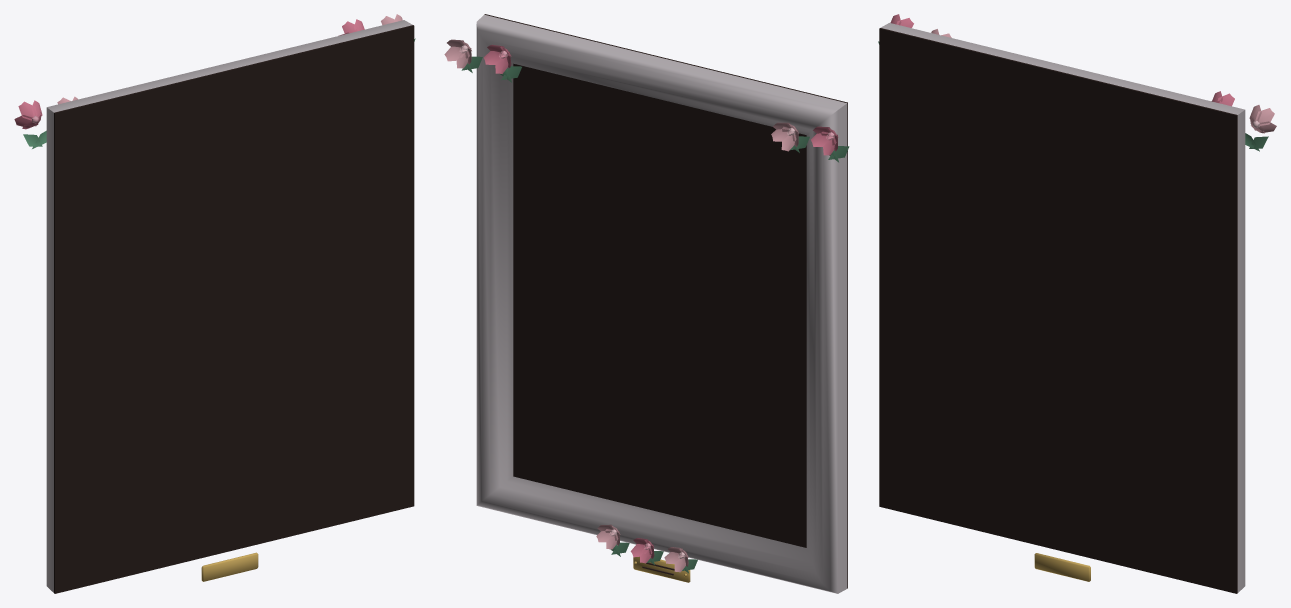
Rendered from pearl_roses_port.glb.
3 views of the same model, side by side, from view 1: azimuth 30°, elevation 25°; view 2: azimuth 150°, elevation 25°; view 3: azimuth 330°, elevation 25° (orthographic).
Parts seen in each view (by area): view 1: pearl_roses_port; view 2: pearl_roses_port; view 3: pearl_roses_port.
Part boxes in pixels (<box>): pearl_roses_port: <box>14,14,415,593</box>; pearl_roses_port: <box>444,14,849,593</box>; pearl_roses_port: <box>878,14,1276,593</box>.
Size of what is drawn, in the model's own units: 0.9817 by 1.22 by 0.1094.
